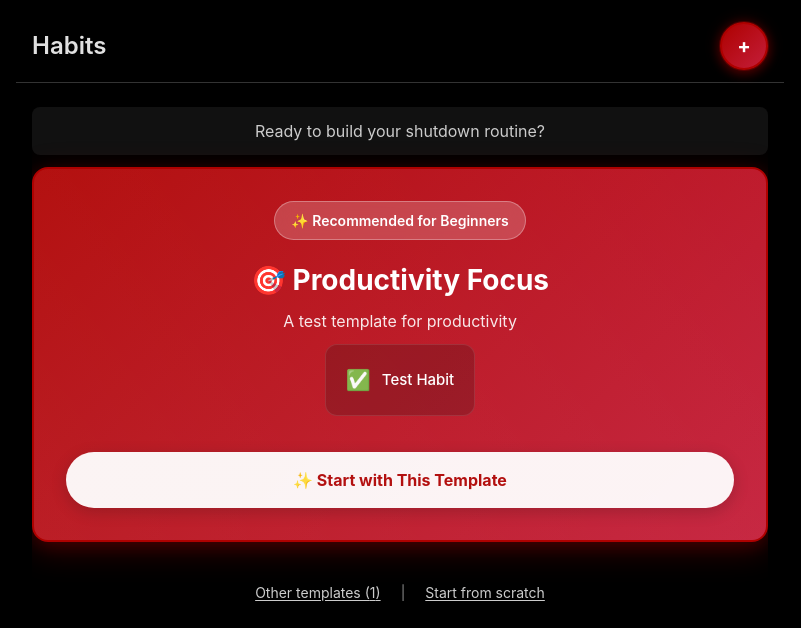
Test: HabitManager › Template Navigation › should show all templates when "Other templates" is clicked
The image size is (801, 628).
Expected: the text "✨ Recommended for Beginners" is shown, [274,201,526,240]
Click "Other templates" to show all
Click the button "Other templates (1)" at (318, 592), box [247,574,389,611]
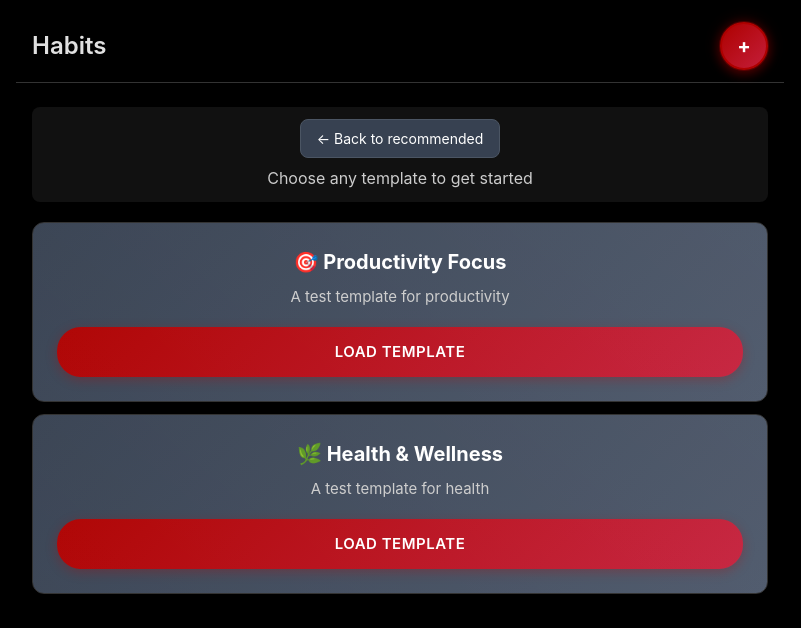
Expected: the button "← Back to recommended" is shown, [300,119,500,158]
Expected: the text "Choose any template to get started" is shown, [267,168,533,188]
Expected: the number of buttons "Load Template" is 2, [57,326,743,377]; [57,518,743,569]
